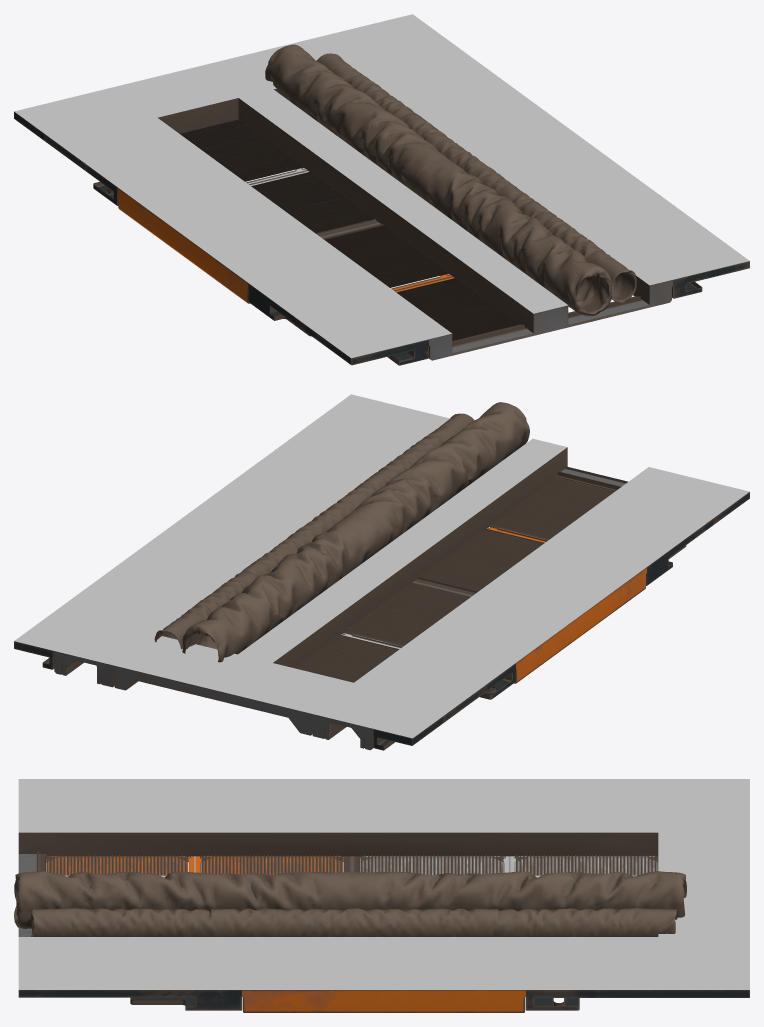
Rendered from SM_CorridorRoof01.fbx.
3 views of the same model, one above another, from view 1: azimuth 30°, elevation 25°; view 2: azimuth 150°, elevation 25°; view 3: azimuth 270°, elevation 25° (orthographic). The views are drawn at different scales.
Parts seen in each view (by area): view 1: SM_CorridorRoof01_LOD0; view 2: SM_CorridorRoof01_LOD0; view 3: SM_CorridorRoof01_LOD0.
Boxes of the visible parts, box(x1,y1,x2,y2) form: SM_CorridorRoof01_LOD0: box(14, 14, 749, 365); SM_CorridorRoof01_LOD0: box(14, 394, 749, 750); SM_CorridorRoof01_LOD0: box(14, 779, 749, 1012).
Size of the model in its own units: 355 by 523 by 55.66.
2 materials, 1 textured.
